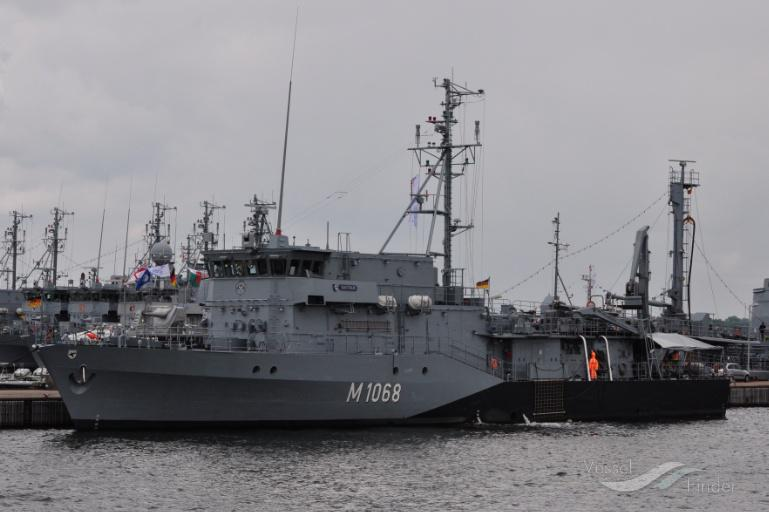OCR: (336, 378, 404, 408)
